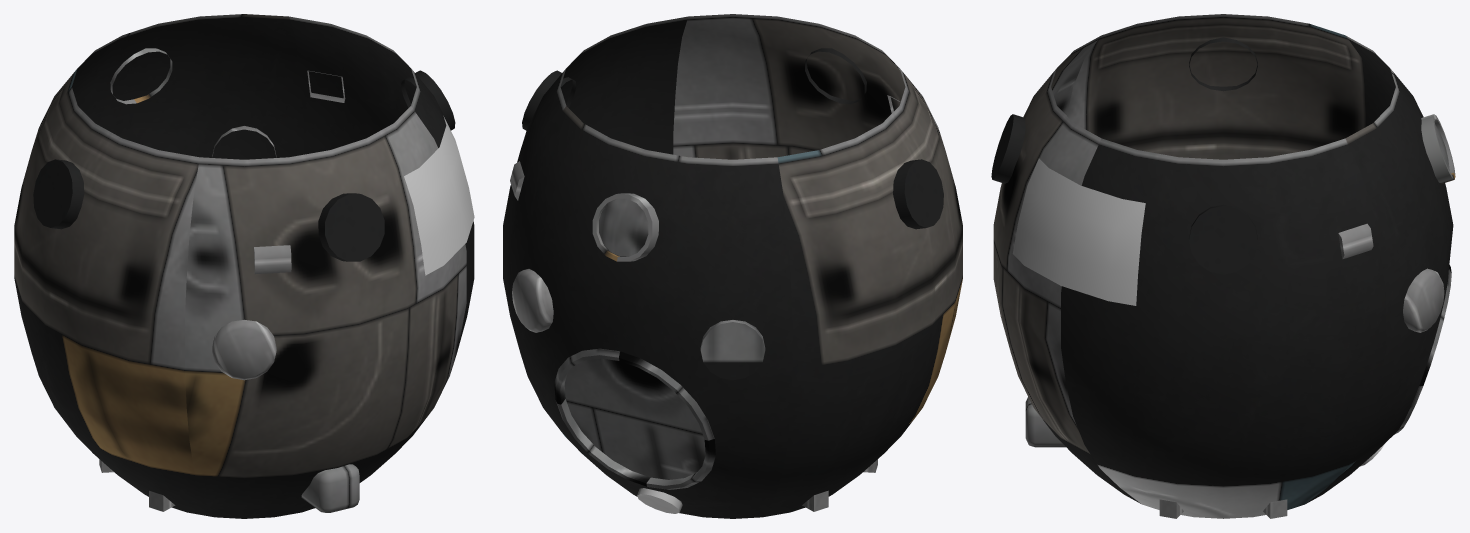
File: orbital_module_gen_2.fbx
The picture shows the model from 3 angles, left to right: view 1: azimuth 30°, elevation 25°; view 2: azimuth 150°, elevation 25°; view 3: azimuth 270°, elevation 25°; orthographic projection.
Visible parts, largest first — view 1: mesh, flag; view 2: mesh, windows; view 3: mesh, flag.
Boxes of the visible parts, x1,y1,x2,y2 form: mesh: [14, 14, 474, 518]; flag: [404, 116, 474, 275]; mesh: [503, 14, 962, 518]; windows: [599, 198, 648, 256]; mesh: [991, 14, 1455, 518]; flag: [1012, 158, 1145, 305].
Size of the model in its own units: 1.26 by 1.15 by 1.26.
